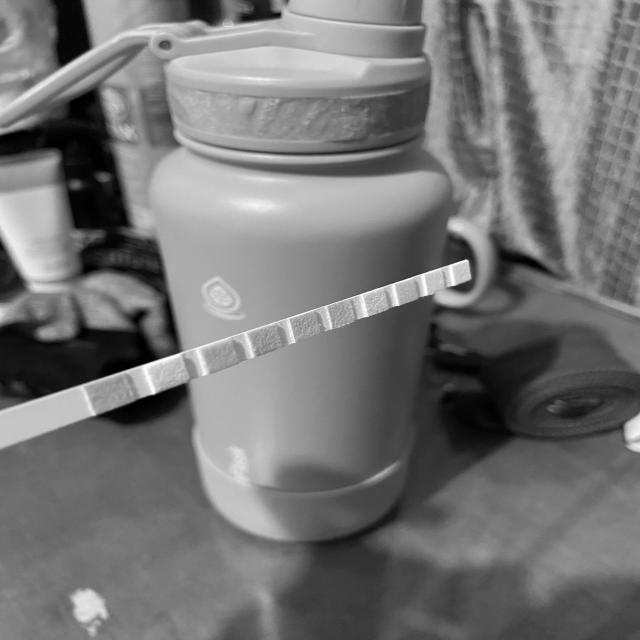Bilirubin: (158, 363, 185, 385)
Blood: (296, 317, 317, 336)
Glucose: (96, 382, 126, 406)
Ketone: (209, 346, 233, 365)
Leukocytes: (456, 265, 468, 281)
Nitrite: (429, 272, 442, 290)
Protein: (369, 293, 386, 311)
SpGravity: (256, 329, 276, 350)
Urobilinogen: (400, 283, 416, 301)
background: (0, 0, 640, 640)
pH: (333, 304, 352, 322)
strip: (1, 260, 472, 451)
